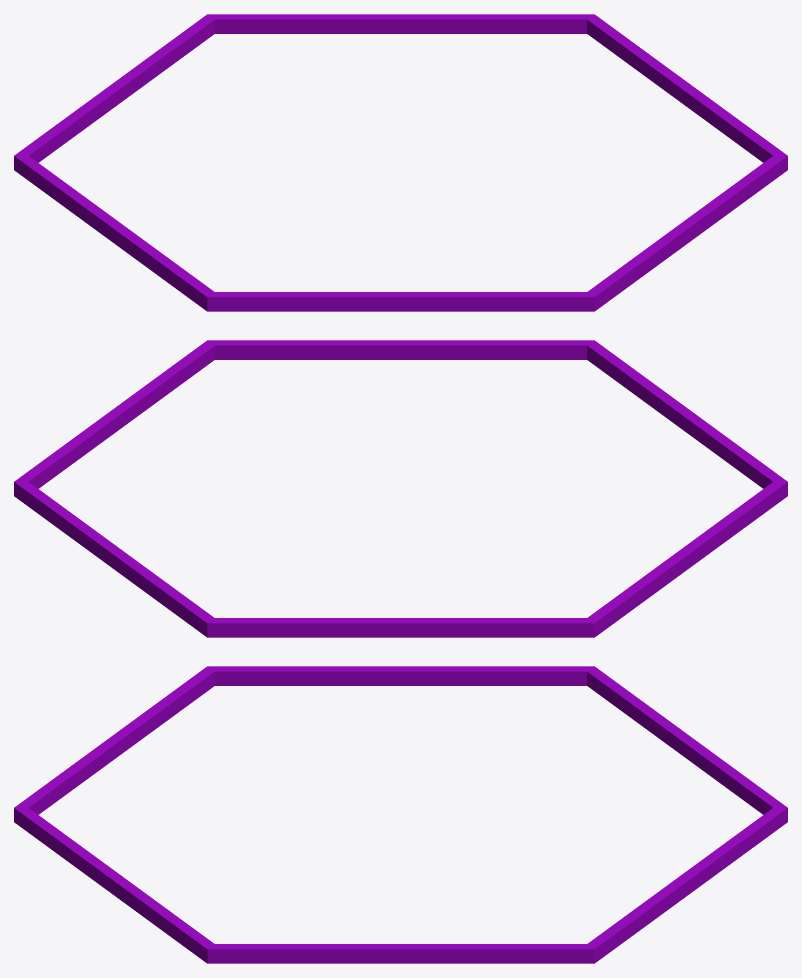
File: HexOutline.fbx
3 renders of one model, top to bottom at view 1: azimuth 30°, elevation 25°; view 2: azimuth 150°, elevation 25°; view 3: azimuth 270°, elevation 25°, orthographic.
Visible parts, largest first — view 1: Cylinder.001; view 2: Cylinder.001; view 3: Cylinder.001.
Boxes of the visible parts, left/top/right/bottom form: Cylinder.001: left=14, top=14, right=787, bottom=311; Cylinder.001: left=14, top=340, right=787, bottom=637; Cylinder.001: left=14, top=666, right=787, bottom=963.
Size of the model in its own units: 17.32 by 0.4087 by 20.
